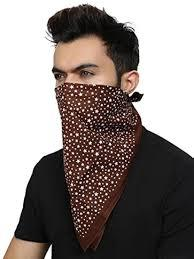scarf-kerchief: (46, 78, 145, 232)
